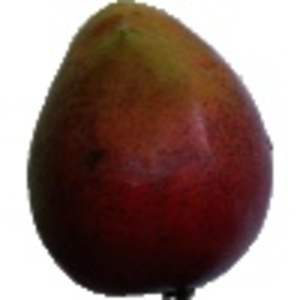manga: (28, 1, 275, 300)
